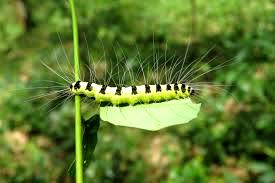Caterpillar: (69, 77, 197, 106)
